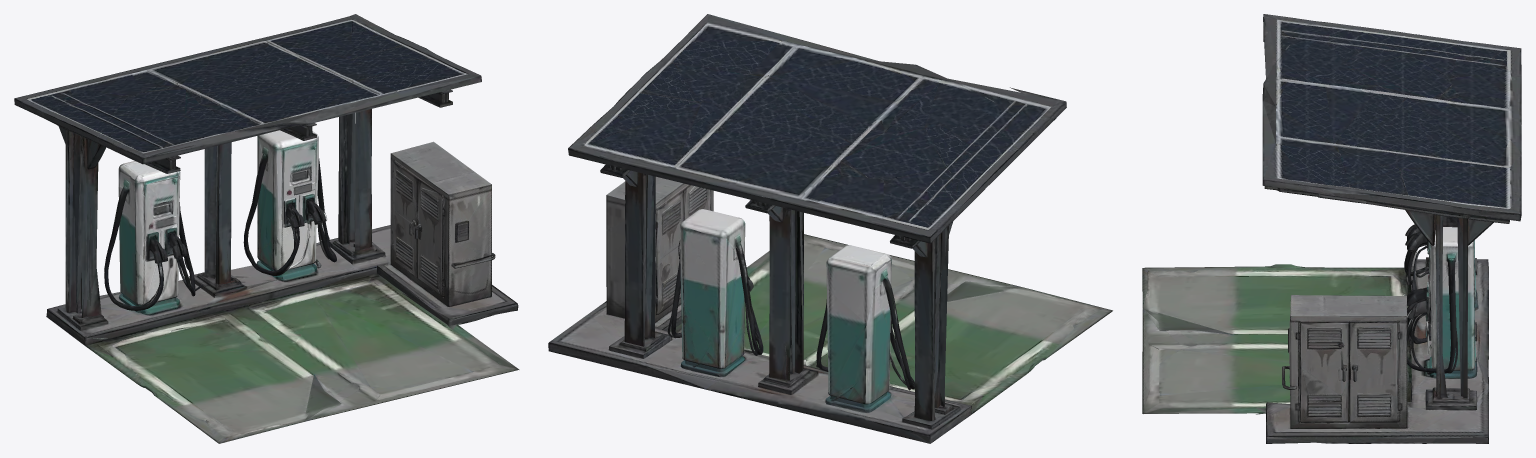
Rendered from dc_charging_hub.glb.
3 views of the same model, side by side, from view 1: azimuth 30°, elevation 25°; view 2: azimuth 150°, elevation 25°; view 3: azimuth 270°, elevation 25° (orthographic). The views are drawn at different scales.
Size of the model in its own units: 1.9 by 1.18 by 1.65.
1 material, 1 textured.
